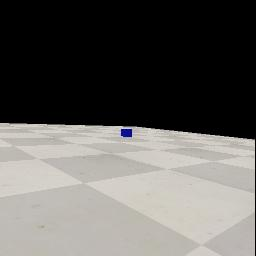box: (121, 129, 132, 137)
